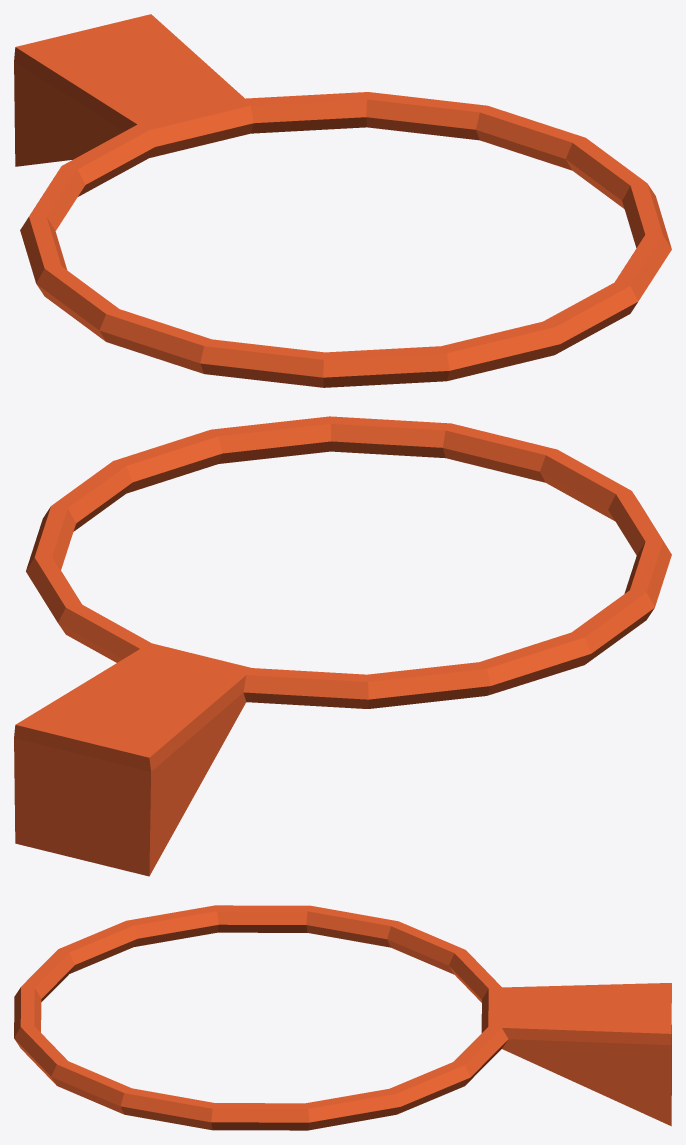
The model's file is circle_alone.fbx.
3 views of the same model, one above another, from view 1: azimuth 30°, elevation 25°; view 2: azimuth 150°, elevation 25°; view 3: azimuth 270°, elevation 25° (orthographic). The views are drawn at different scales.
Visible parts, largest first — view 1: Cember.001; view 2: Cember.001; view 3: Cember.001.
Part boxes in pixels (x1,y1,x2,y2): Cember.001: (14, 14, 671, 387); Cember.001: (14, 416, 671, 876); Cember.001: (14, 905, 671, 1130).
Size of the model in its own units: 216 by 44.53 by 287.
